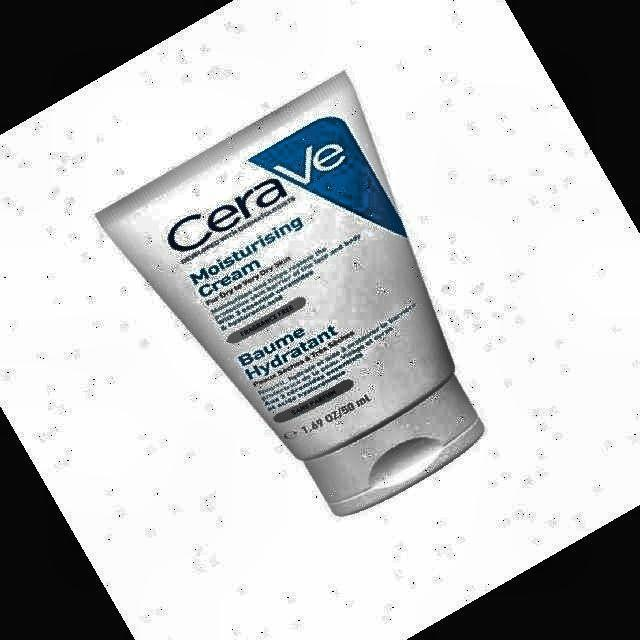plastic: (98, 72, 484, 515)
